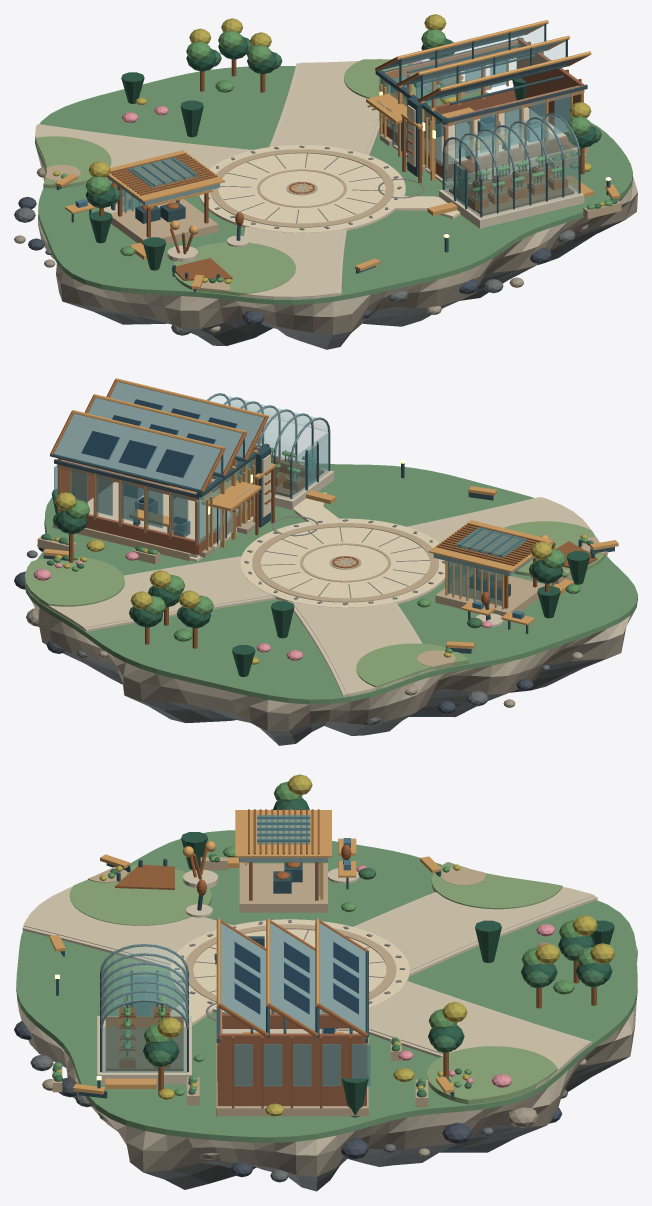
Rendered from industry-youth-c.glb.
The picture shows the model from 3 angles, top to bottom: view 1: azimuth 30°, elevation 25°; view 2: azimuth 150°, elevation 25°; view 3: azimuth 270°, elevation 25°; orthographic projection. The views are drawn at different scales.
Visible parts, largest first — view 1: 00_TerrainAndPlaza_grass, 00_TerrainAndPlaza_path, 00_TerrainAndPlaza_stone_bright, 02_Greenhouse_glass_light, 00_TerrainAndPlaza_cliff_light, 00_TerrainAndPlaza_stone_cream, 00_TerrainAndPlaza_cliff_mid, 04_GardensAndFurniture_grass_light, 01_Workshop_glass_light, 01_Workshop_warmbrick, 01_Workshop_woodlight, 04_GardensAndFurniture_plant_pine (+34 smaller); view 2: 00_TerrainAndPlaza_grass, 00_TerrainAndPlaza_path, 00_TerrainAndPlaza_stone_bright, 01_Workshop_roof_light, 00_TerrainAndPlaza_cliff_light, 00_TerrainAndPlaza_stone_cream, 00_TerrainAndPlaza_cliff_mid, 04_GardensAndFurniture_grass_light, 01_Workshop_woodlight, 04_GardensAndFurniture_plant_pine, 01_Workshop_glass_shadow, 02_Greenhouse_glass_light (+36 smaller); view 3: 00_TerrainAndPlaza_grass, 00_TerrainAndPlaza_path, 01_Workshop_warmbrick, 04_GardensAndFurniture_grass_light, 00_TerrainAndPlaza_stone_cream, 00_TerrainAndPlaza_cliff_light, 01_Workshop_roof_light, 00_TerrainAndPlaza_cliff_mid, 04_GardensAndFurniture_plant_pine, 02_Greenhouse_glass, 00_TerrainAndPlaza_stone_bright, 01_Workshop_glass_shadow (+29 smaller).
Part boxes in pixels (bbox=[...]): 00_TerrainAndPlaza_grass: bbox=[35, 66, 632, 304]; 00_TerrainAndPlaza_path: bbox=[35, 61, 379, 297]; 00_TerrainAndPlaza_stone_bright: bbox=[198, 145, 405, 232]; 02_Greenhouse_glass_light: bbox=[445, 114, 578, 217]; 00_TerrainAndPlaza_cliff_light: bbox=[14, 167, 637, 334]; 00_TerrainAndPlaza_stone_cream: bbox=[35, 63, 637, 317]; 00_TerrainAndPlaza_cliff_mid: bbox=[14, 207, 624, 349]; 04_GardensAndFurniture_grass_light: bbox=[173, 59, 455, 295]; 01_Workshop_glass_light: bbox=[394, 25, 565, 153]; 01_Workshop_warmbrick: bbox=[382, 37, 583, 178]; 01_Workshop_woodlight: bbox=[366, 20, 591, 180]; 04_GardensAndFurniture_plant_pine: bbox=[85, 36, 596, 270]; 00_TerrainAndPlaza_grass: bbox=[24, 461, 637, 704]; 00_TerrainAndPlaza_path: bbox=[45, 497, 590, 694]; 00_TerrainAndPlaza_stone_bright: bbox=[240, 518, 450, 607]; 01_Workshop_roof_light: bbox=[54, 382, 263, 489]; 00_TerrainAndPlaza_cliff_light: bbox=[26, 523, 626, 731]; 00_TerrainAndPlaza_stone_cream: bbox=[31, 497, 635, 713]; 00_TerrainAndPlaza_cliff_mid: bbox=[26, 550, 618, 745]; 04_GardensAndFurniture_grass_light: bbox=[24, 521, 605, 606]; 01_Workshop_woodlight: bbox=[69, 378, 268, 550]; 04_GardensAndFurniture_plant_pine: bbox=[51, 489, 589, 676]; 01_Workshop_glass_shadow: bbox=[54, 460, 252, 534]; 02_Greenhouse_glass_light: bbox=[209, 394, 327, 499]; 00_TerrainAndPlaza_grass: bbox=[16, 830, 637, 1142]; 00_TerrainAndPlaza_path: bbox=[23, 886, 594, 1083]; 01_Workshop_warmbrick: bbox=[217, 1014, 366, 1106]; 04_GardensAndFurniture_grass_light: bbox=[69, 865, 557, 1104]; 00_TerrainAndPlaza_stone_cream: bbox=[16, 892, 637, 1155]; 00_TerrainAndPlaza_cliff_light: bbox=[20, 951, 637, 1176]; 01_Workshop_roof_light: bbox=[221, 923, 365, 1031]; 00_TerrainAndPlaza_cliff_mid: bbox=[30, 1054, 629, 1191]; 04_GardensAndFurniture_plant_pine: bbox=[143, 797, 614, 1117]; 02_Greenhouse_glass: bbox=[101, 972, 187, 1072]; 00_TerrainAndPlaza_stone_bright: bbox=[170, 919, 409, 1013]; 01_Workshop_glass_shadow: bbox=[234, 1044, 370, 1086].
Bounding box in the file's own units: 29.84 × 11.54 × 25.5.
